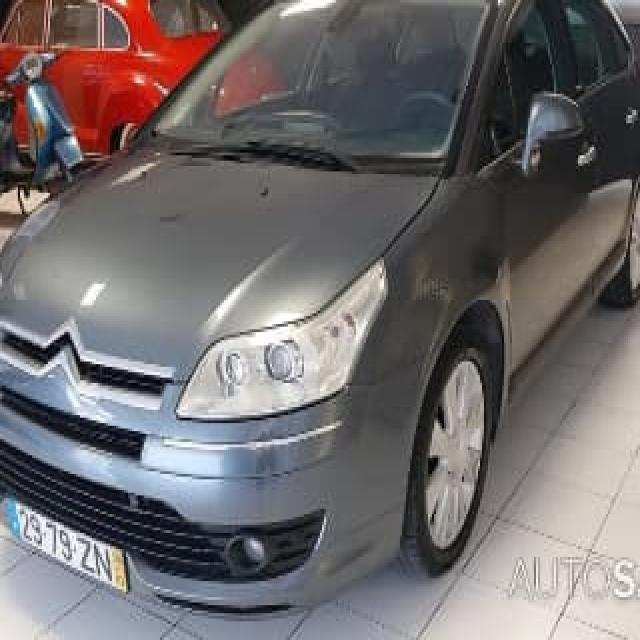portuguese-license-plates: (7, 496, 127, 593)
